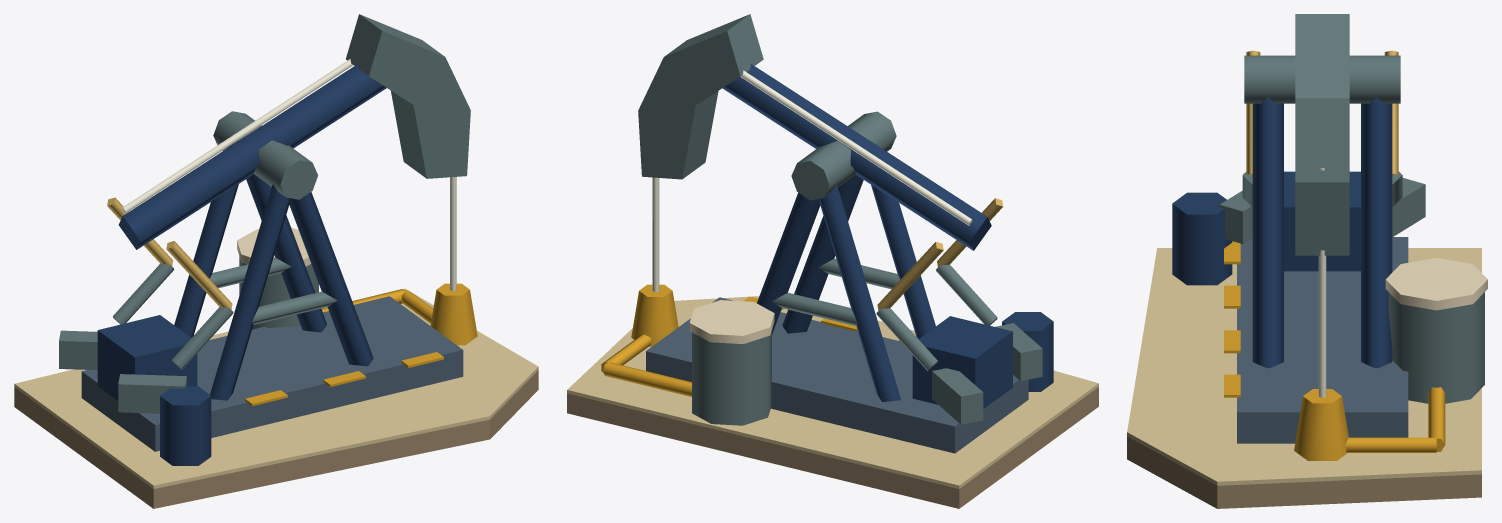
File: oil-well-lv1.glb
3 views of the same model, side by side, from view 1: azimuth 30°, elevation 25°; view 2: azimuth 150°, elevation 25°; view 3: azimuth 270°, elevation 25° (orthographic). The views are drawn at different scales.
Parts seen in each view (by area): view 1: foundation_sand, pump_foundation_slate, a_frame_legs_naval, curved_horsehead_iron, foundation_stoneDark, walking_beam_naval, gearbox_naval, motor_naval, counterweight_iron, saddle_bearing_iron, crank_arm_iron, wellhead_ochre (+8 smaller); view 2: pump_foundation_slate, foundation_sand, a_frame_legs_naval, curved_horsehead_iron, foundation_stoneDark, walking_beam_naval, storage_tank_iron, gearbox_naval, saddle_bearing_iron, counterweight_iron, tank_lid_cream, crank_arm_iron (+7 smaller); view 3: foundation_sand, pump_foundation_slate, a_frame_legs_naval, curved_horsehead_iron, foundation_stoneDark, storage_tank_iron, saddle_bearing_iron, motor_naval, tank_lid_cream, wellhead_ochre, gearbox_naval, counterweight_iron (+5 smaller).
Boxes of the visible parts, x1,y1,x2,y2 form: foundation_sand: (14, 288, 538, 488); pump_foundation_slate: (81, 296, 463, 451); a_frame_legs_naval: (174, 174, 373, 400); curved_horsehead_iron: (346, 14, 470, 178); foundation_stoneDark: (14, 370, 538, 508); walking_beam_naval: (118, 63, 386, 249); gearbox_naval: (97, 315, 197, 413); motor_naval: (160, 386, 211, 465); counterweight_iron: (59, 330, 186, 413); saddle_bearing_iron: (213, 111, 317, 199); crank_arm_iron: (113, 263, 233, 369); wellhead_ochre: (430, 283, 477, 345); pump_foundation_slate: (646, 297, 1028, 453); foundation_sand: (567, 296, 1098, 488); a_frame_legs_naval: (757, 175, 935, 401); curved_horsehead_iron: (638, 14, 763, 179); foundation_stoneDark: (567, 387, 1098, 508); walking_beam_naval: (722, 64, 991, 250); storage_tank_iron: (692, 330, 771, 425); gearbox_naval: (912, 316, 1012, 408); saddle_bearing_iron: (791, 111, 896, 200); counterweight_iron: (932, 323, 1042, 424); tank_lid_cream: (689, 300, 774, 343); crank_arm_iron: (876, 264, 997, 370); foundation_sand: (1127, 248, 1481, 485); pump_foundation_slate: (1237, 237, 1408, 443); a_frame_legs_naval: (1252, 97, 1392, 368); curved_horsehead_iron: (1295, 14, 1349, 255); foundation_stoneDark: (1127, 436, 1481, 508); storage_tank_iron: (1388, 292, 1484, 403); saddle_bearing_iron: (1244, 55, 1400, 103); motor_naval: (1172, 192, 1232, 285); tank_lid_cream: (1385, 258, 1487, 310); wellhead_ochre: (1294, 389, 1348, 460); gearbox_naval: (1284, 171, 1360, 271); counterweight_iron: (1219, 178, 1425, 243).
Bounding box in the file's own units: 1 × 0.8478 × 0.6522.
